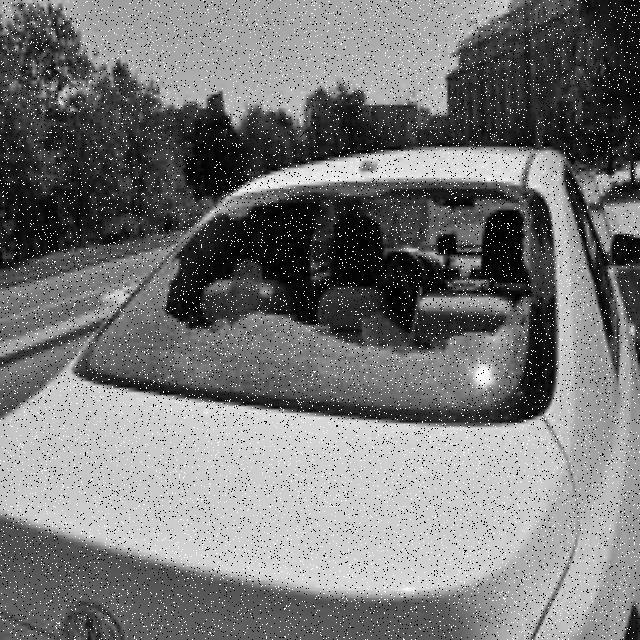Rear-windscreen-Damage: (66, 161, 599, 469)
